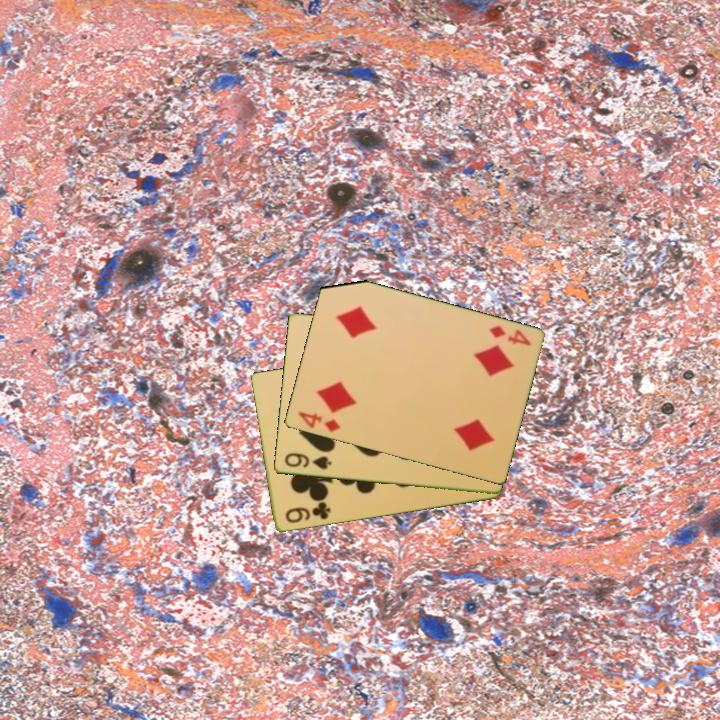4d: (295, 408, 343, 435), (486, 322, 534, 349)
9c: (282, 499, 333, 526)
9s: (281, 449, 334, 473)
